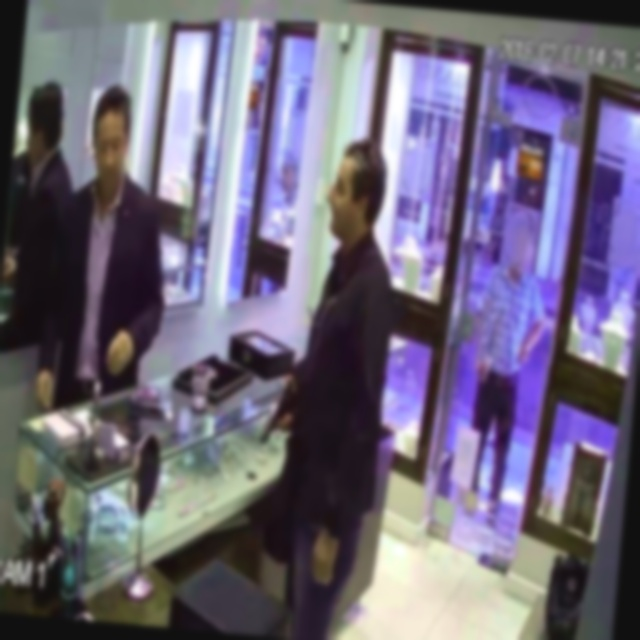gun: (250, 372, 310, 461)
